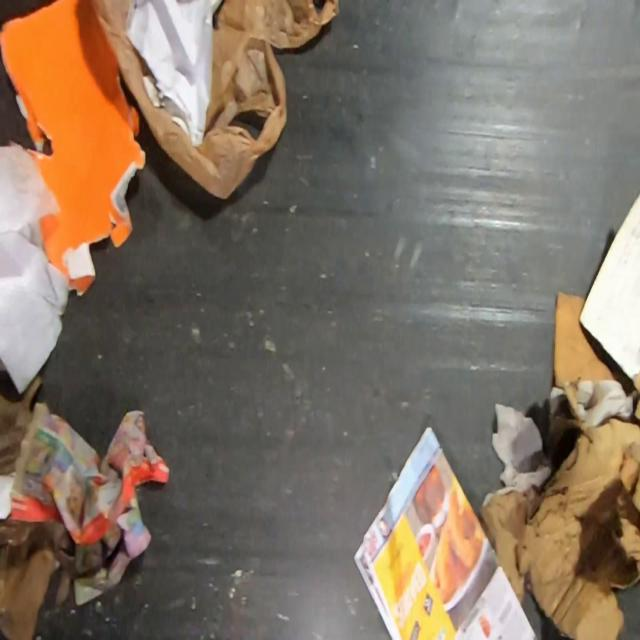cardboard: (0, 0, 147, 300), (475, 412, 640, 640), (552, 287, 631, 413)
soft_plastic: (93, 0, 343, 201)
